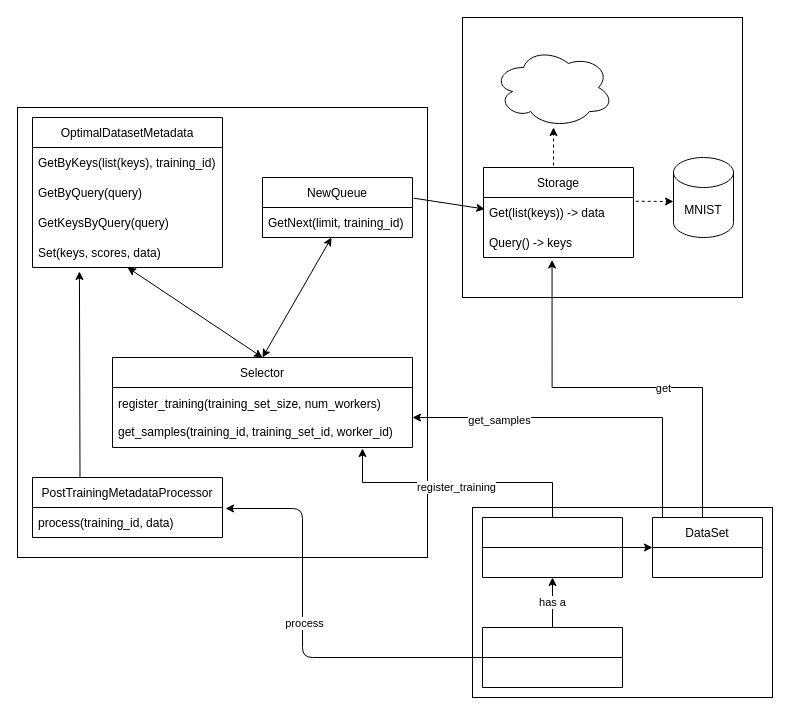
The diagram is 790 pixels wide and 715 high, and some of its shapes have lost their labels. Each missing label, with the centre of its shape:
"DataLoader" belongs at [552,547].
"S3" belongs at [553,87].
"Trainer" belongs at [552,657].
